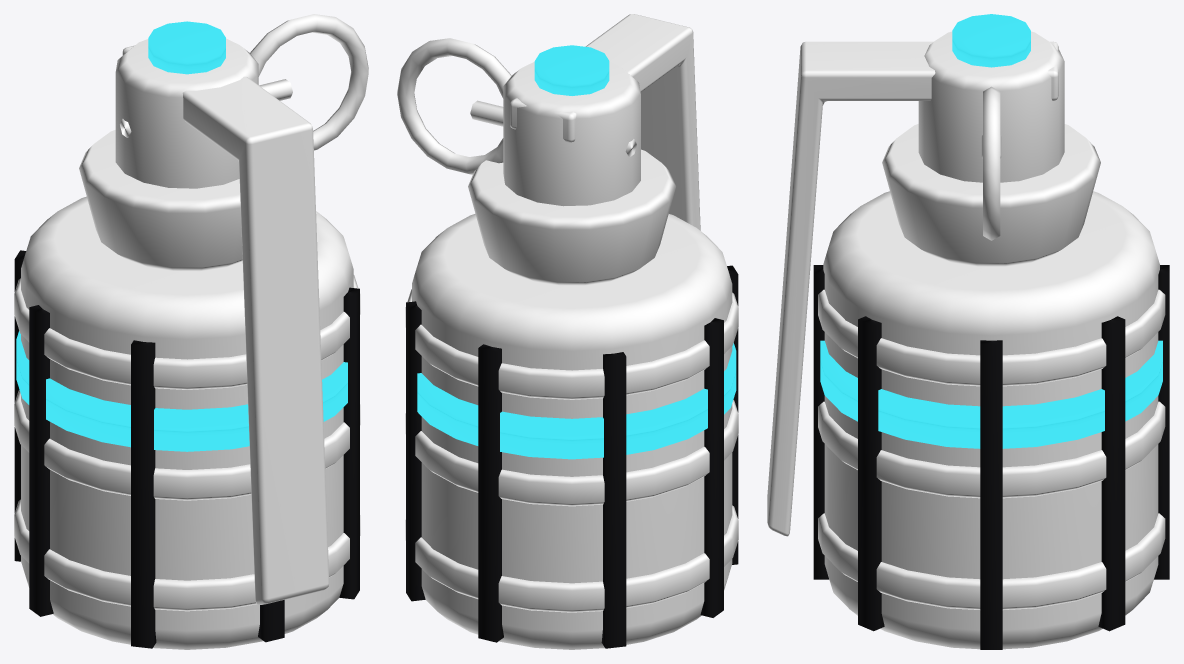
Rendered from grenade_emp.glb.
3 renders of one model, left to right at view 1: azimuth 30°, elevation 25°; view 2: azimuth 150°, elevation 25°; view 3: azimuth 270°, elevation 25°, orthographic. The views are drawn at different scales.
Visible parts, largest first — view 1: shell, lever, neck, fuze, glow_band, groove.005, band.002, band, band.001, groove.004, groove.007, pin_ring (+4 smaller); view 2: shell, neck, fuze, lever, glow_band, band.002, band, band.001, groove.003, groove.002, groove.004, pin_ring (+4 smaller); view 3: shell, lever, neck, fuze, glow_band, band, band.002, band.001, groove.001, groove, groove.007, button (+3 smaller).
Boxes of the visible parts, x1,y1,x2,y2 form: shell: [21, 196, 353, 649]; lever: [122, 45, 329, 604]; neck: [79, 130, 242, 271]; fuze: [115, 38, 258, 188]; glow_band: [16, 331, 347, 451]; groove.005: [131, 340, 156, 648]; band.002: [14, 275, 360, 389]; band: [14, 499, 360, 611]; band.001: [14, 390, 360, 500]; groove.004: [29, 305, 53, 616]; groove.007: [339, 287, 359, 599]; pin_ring: [250, 14, 368, 150]; shell: [412, 214, 732, 649]; neck: [468, 149, 675, 285]; fuze: [503, 62, 640, 206]; lever: [510, 14, 700, 230]; glow_band: [417, 343, 736, 459]; band.002: [405, 289, 738, 399]; band: [405, 505, 738, 612]; band.001: [405, 400, 738, 506]; groove.003: [601, 352, 626, 648]; groove.002: [478, 344, 503, 642]; groove.004: [700, 318, 723, 617]; pin_ring: [397, 38, 511, 174]; shell: [823, 191, 1159, 649]; lever: [767, 41, 1058, 536]; neck: [882, 124, 1100, 266]; fuze: [918, 31, 1064, 182]; glow_band: [820, 340, 1162, 448]; band: [818, 513, 1165, 609]; band.002: [818, 289, 1165, 386]; band.001: [818, 401, 1165, 498]; groove.001: [1098, 316, 1125, 631]; groove: [980, 340, 1002, 649]; groove.007: [858, 316, 884, 631]; button: [952, 14, 1030, 67].
Bounding box in the file's own units: 0.0695 × 0.11 × 0.0716.
